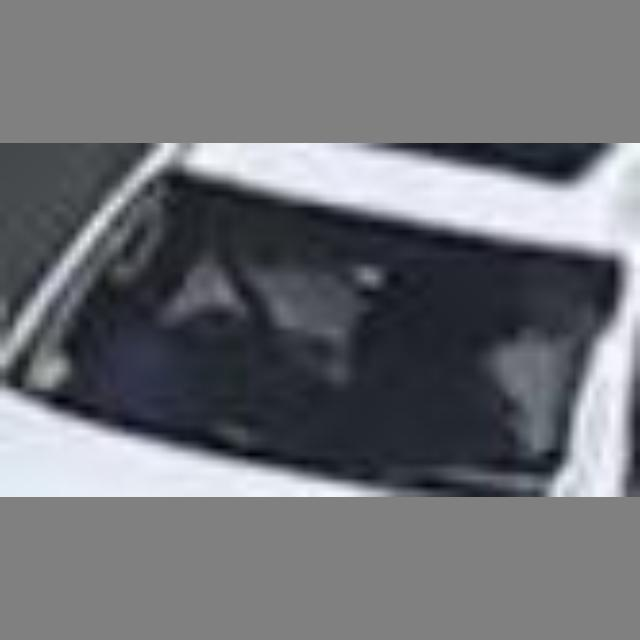pakai: (185, 205, 355, 421)
tidak-pakai: (470, 266, 601, 451)
